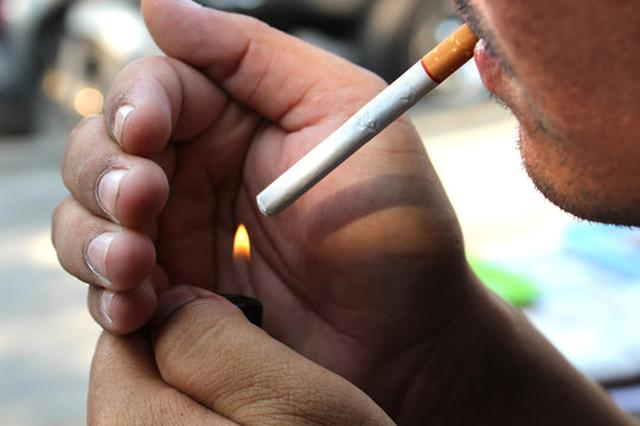Cigarette: (254, 20, 479, 218)
